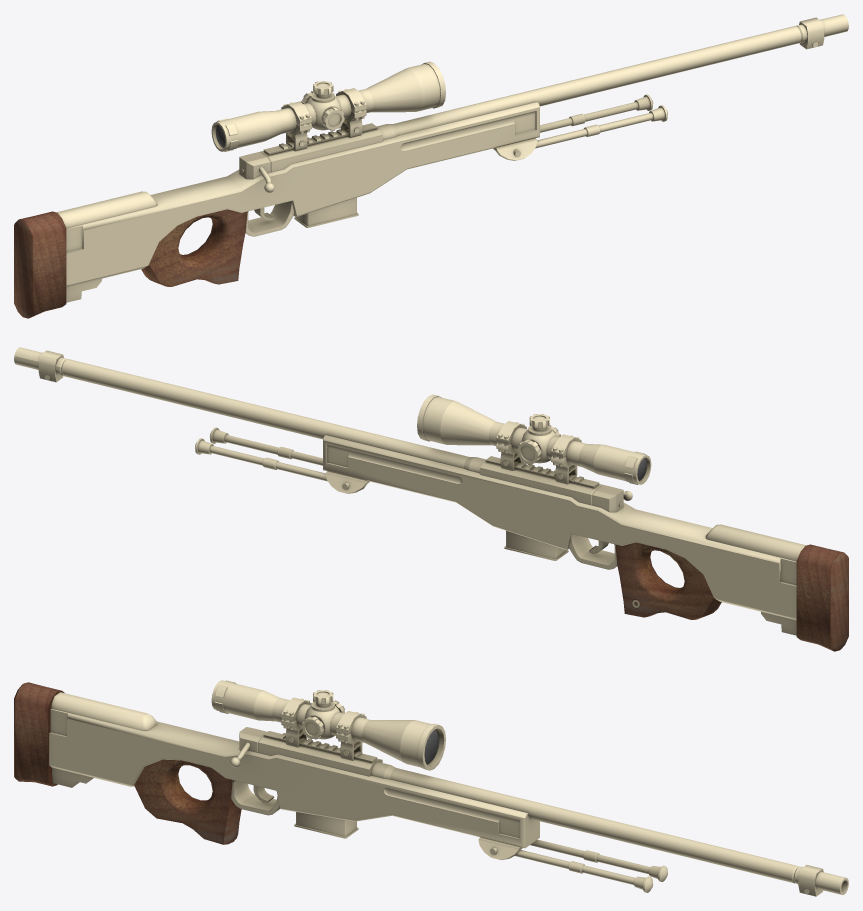
File: weapon_1_14.gltf
The picture shows the model from 3 angles, top to bottom: view 1: azimuth 30°, elevation 25°; view 2: azimuth 150°, elevation 25°; view 3: azimuth 330°, elevation 25°; orthographic projection.
Parts seen in each view (by area): view 1: Cylinder.019_Cylinder.000; view 2: Cylinder.019_Cylinder.000; view 3: Cylinder.019_Cylinder.000.
Boxes of the visible parts, left/top/right/bottom form: Cylinder.019_Cylinder.000: left=14, top=14, right=848, bottom=318; Cylinder.019_Cylinder.000: left=14, top=347, right=848, bottom=651; Cylinder.019_Cylinder.000: left=14, top=680, right=848, bottom=896.
Size of the model in its own units: 9950 by 1958 by 680.
Materials: 1 (1 with a texture image).
